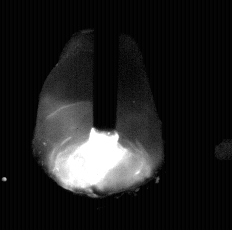arame: (94, 0, 118, 134)
poca: (32, 0, 163, 230)
